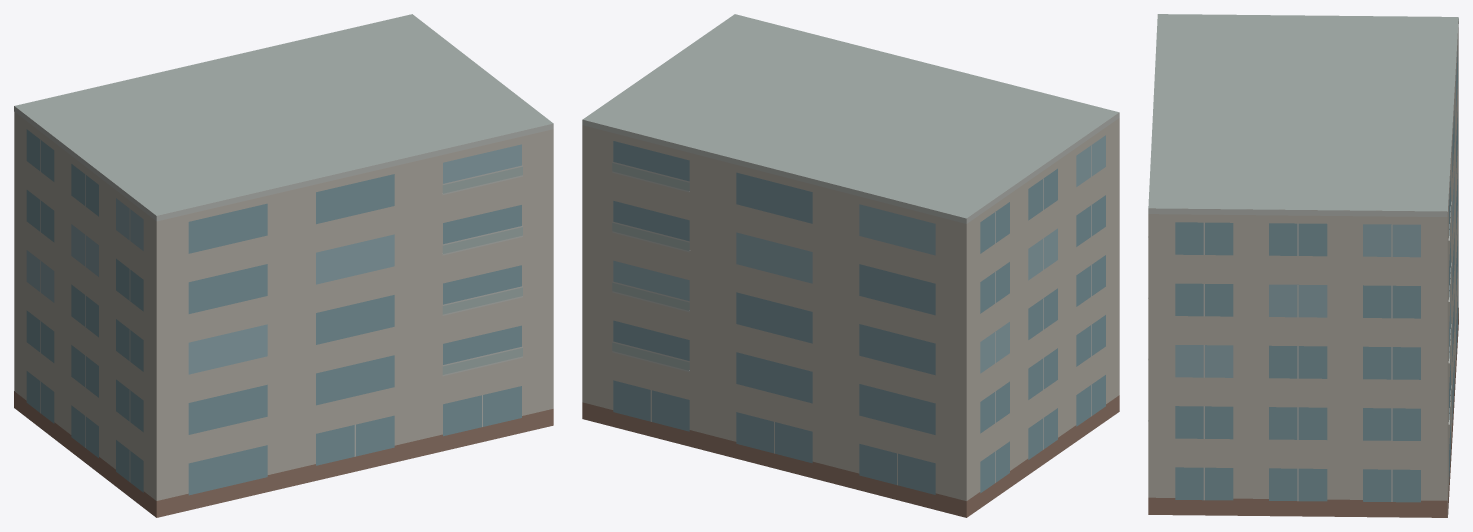
The model's file is survey-upis-33041539.glb.
The picture shows the model from 3 angles, left to right: view 1: azimuth 30°, elevation 25°; view 2: azimuth 150°, elevation 25°; view 3: azimuth 270°, elevation 25°; orthographic projection. The views are drawn at different scales.
Parts seen in each view (by area): view 1: survey-upis-33041539.tmp; view 2: survey-upis-33041539.tmp; view 3: survey-upis-33041539.tmp.
Boxes of the visible parts, x1,y1,x2,y2 form: survey-upis-33041539.tmp: (14, 14, 553, 517); survey-upis-33041539.tmp: (582, 14, 1119, 517); survey-upis-33041539.tmp: (1148, 14, 1458, 517).
Bounding box in the file's own units: 18.25 × 13.2 × 12.13.
